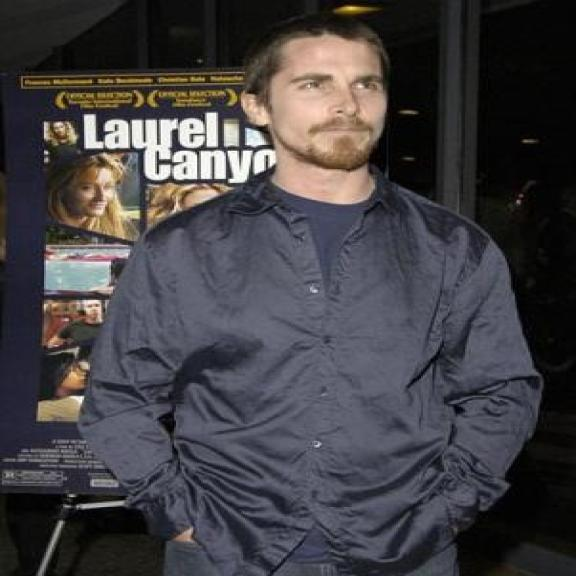face: (239, 41, 397, 174), (68, 166, 120, 218), (60, 358, 94, 394), (81, 297, 104, 322)
